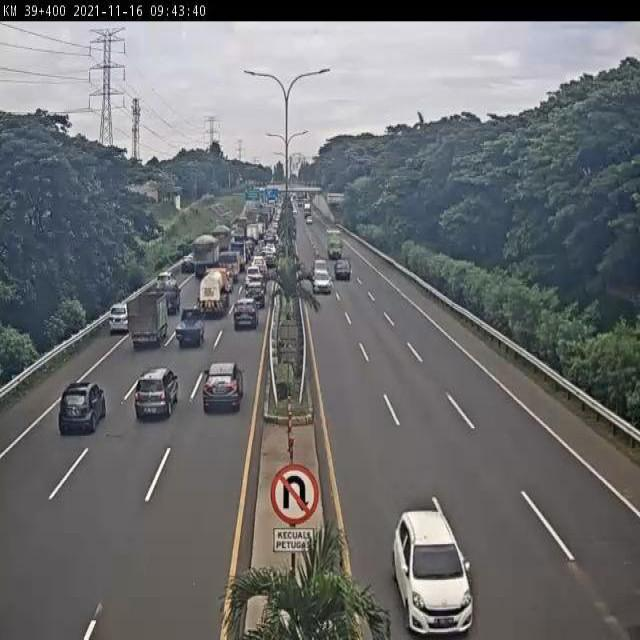car: (389, 506, 482, 640), (54, 376, 113, 441), (129, 364, 184, 428), (200, 358, 246, 414), (175, 307, 209, 352), (229, 296, 261, 335), (106, 300, 133, 337), (155, 283, 180, 316), (242, 279, 267, 309), (312, 265, 331, 296), (154, 271, 176, 296), (244, 263, 264, 285), (180, 253, 197, 276), (246, 275, 267, 293), (335, 259, 351, 280), (252, 253, 267, 272), (264, 251, 278, 268)
small truck: (124, 293, 169, 351), (197, 264, 234, 319), (215, 249, 242, 287), (325, 229, 346, 260)
truck-m-: (188, 233, 222, 284), (212, 222, 234, 254)
